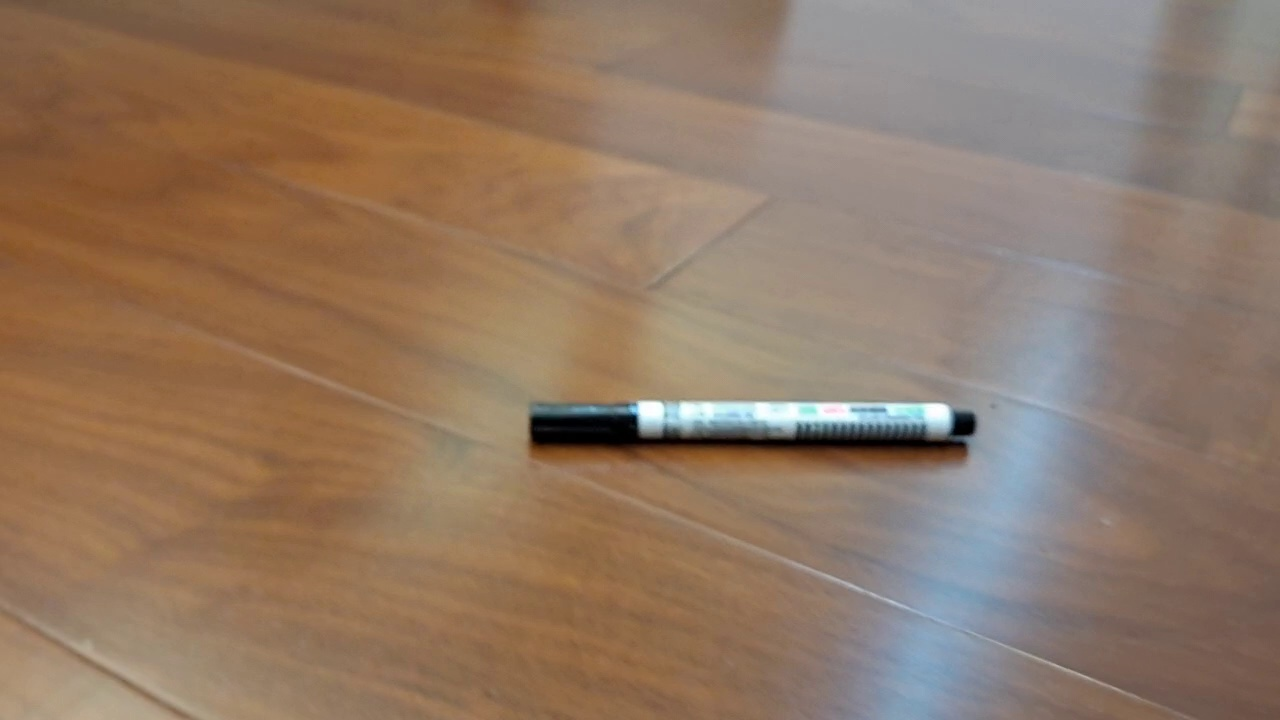pen: (527, 400, 977, 445)
